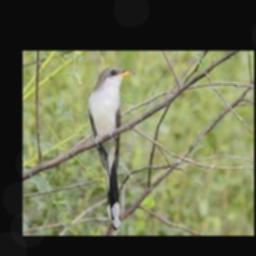Cuckoo: (88, 67, 136, 229)
